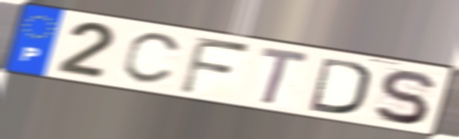2: (53, 21, 120, 82)
C: (119, 32, 186, 88)
D: (307, 54, 372, 117)
F: (176, 34, 254, 97)
S: (372, 68, 437, 126)
T: (257, 44, 314, 108)
